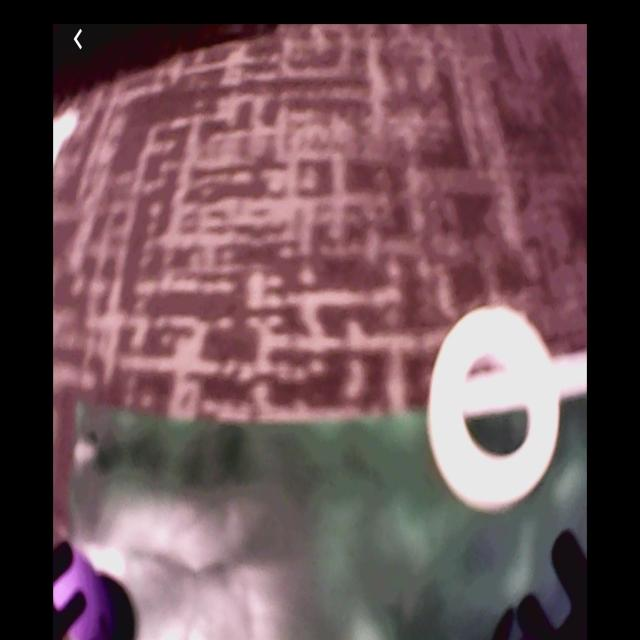ball: (52, 541, 115, 640)
